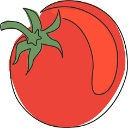tomato: (9, 5, 127, 127)
